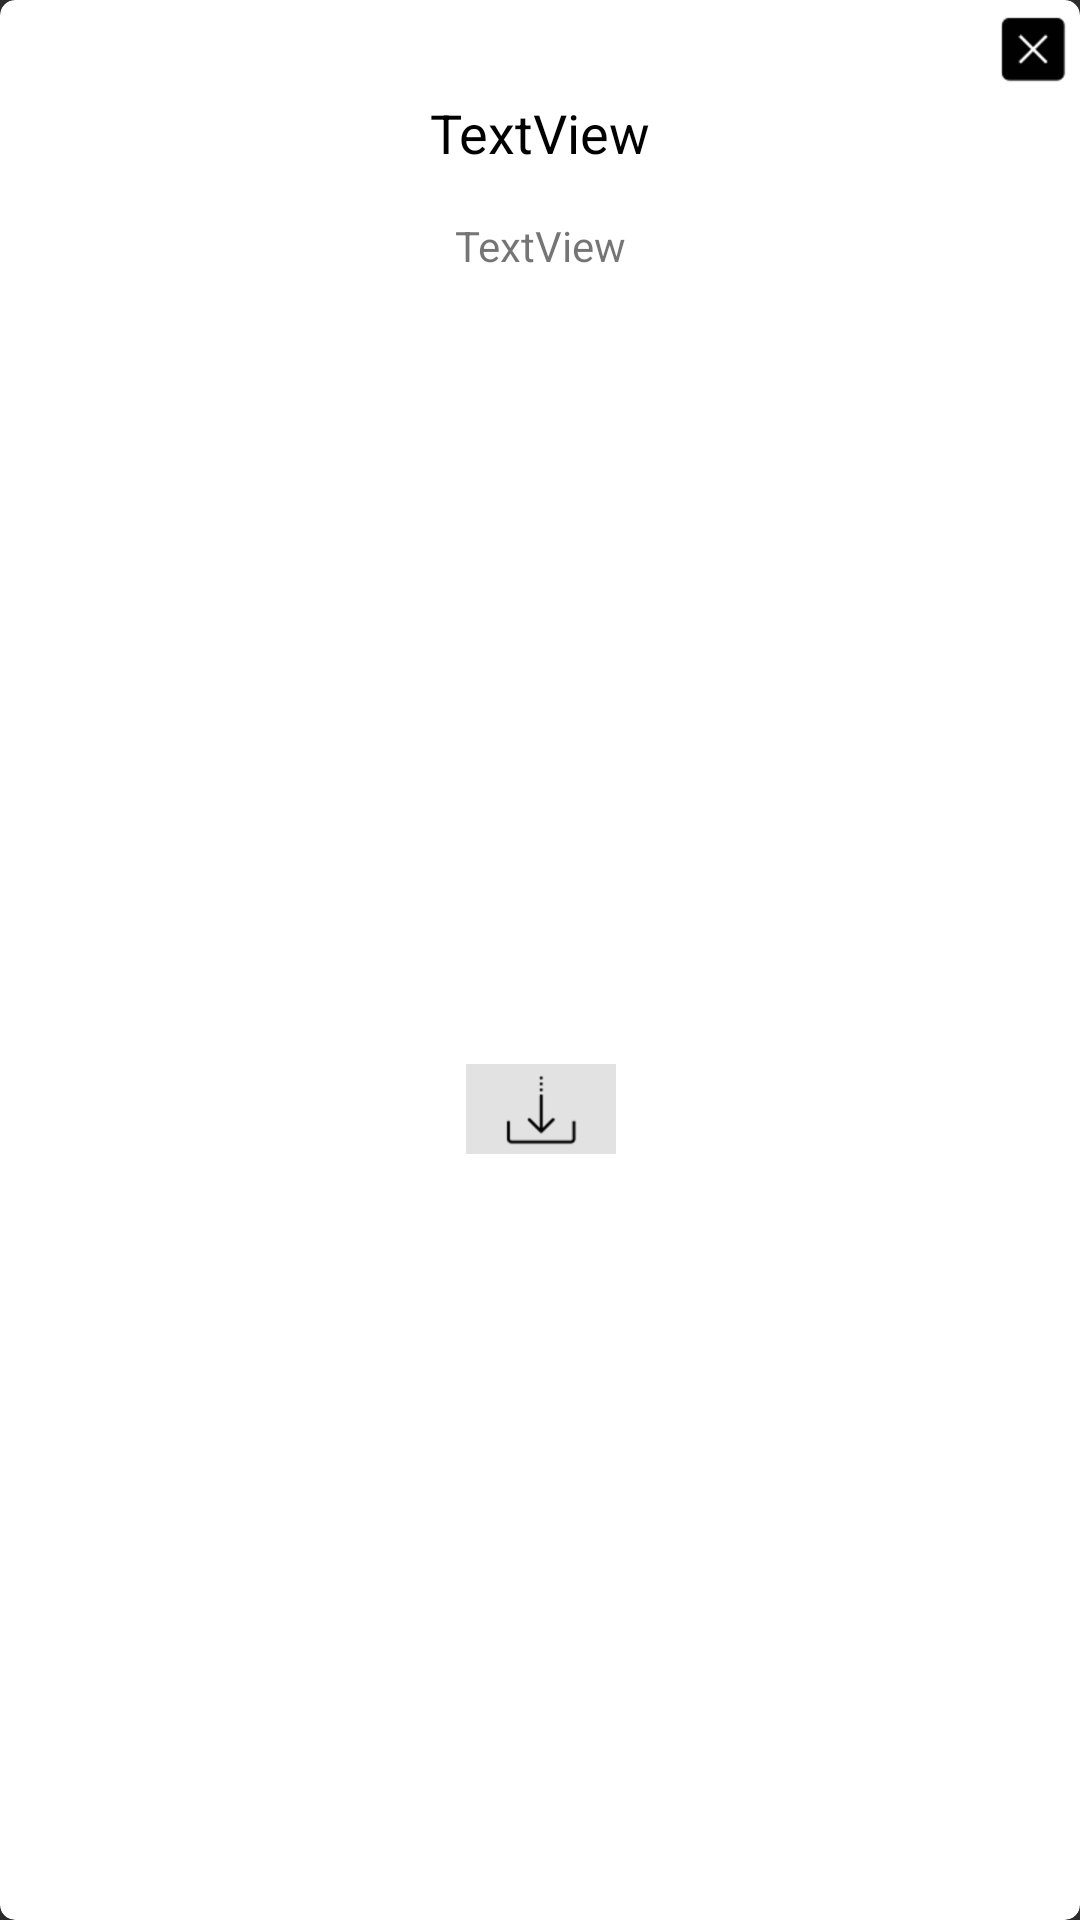

Point at icon controls on the screen. Image size 1080px×1920px, points as point (x, y).
download: point (541, 1109)
